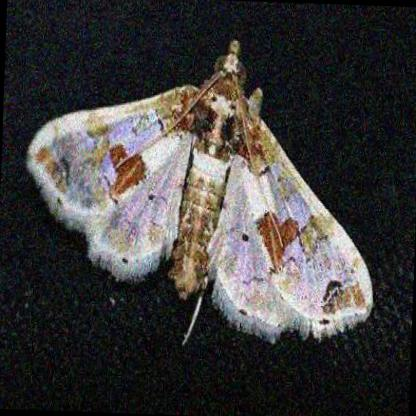leucinodes: (26, 41, 375, 345)
